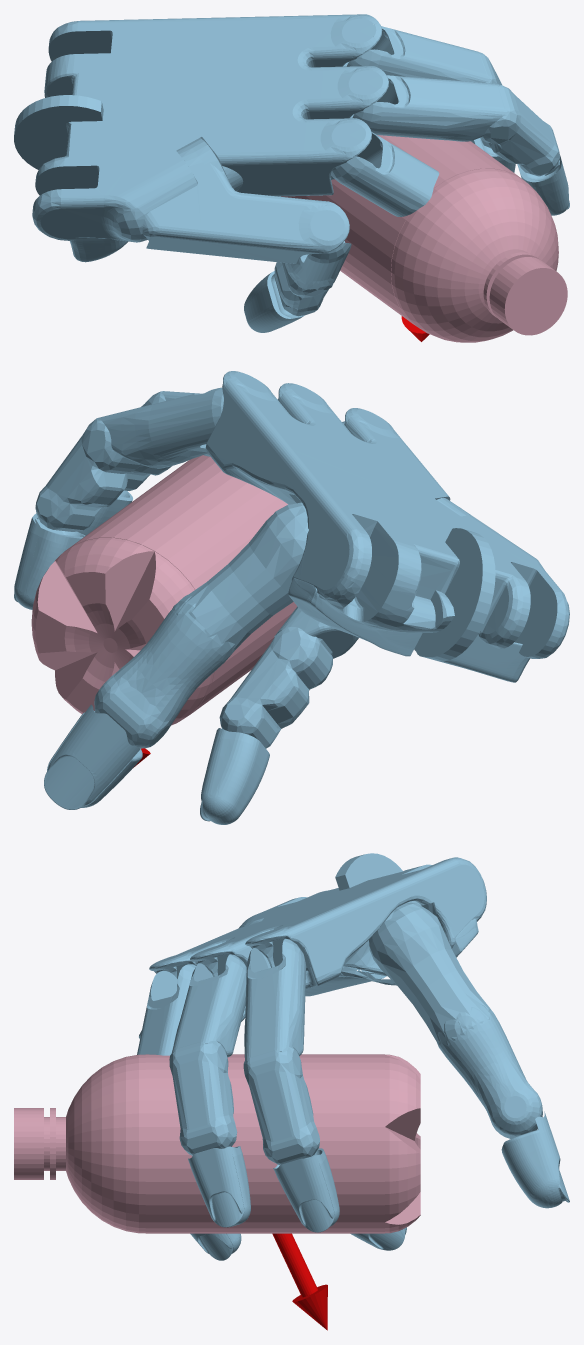
The picture shows the model from 3 angles, top to bottom: view 1: azimuth 30°, elevation 25°; view 2: azimuth 150°, elevation 25°; view 3: azimuth 270°, elevation 25°; orthographic projection. The views are drawn at different scales.
Parts seen in each view (by area): view 1: world, water_bottle.stl; view 2: world, water_bottle.stl; view 3: world, water_bottle.stl.
Part boxes in pixels (x1,y1,x2,y2): world: (14, 14, 569, 341); water_bottle.stl: (281, 135, 567, 342); world: (14, 371, 569, 824); water_bottle.stl: (31, 455, 297, 725); world: (137, 853, 569, 1330); water_bottle.stl: (14, 1054, 420, 1233).
Size of the model in its own units: 0.1889 by 0.1332 by 0.1866.
